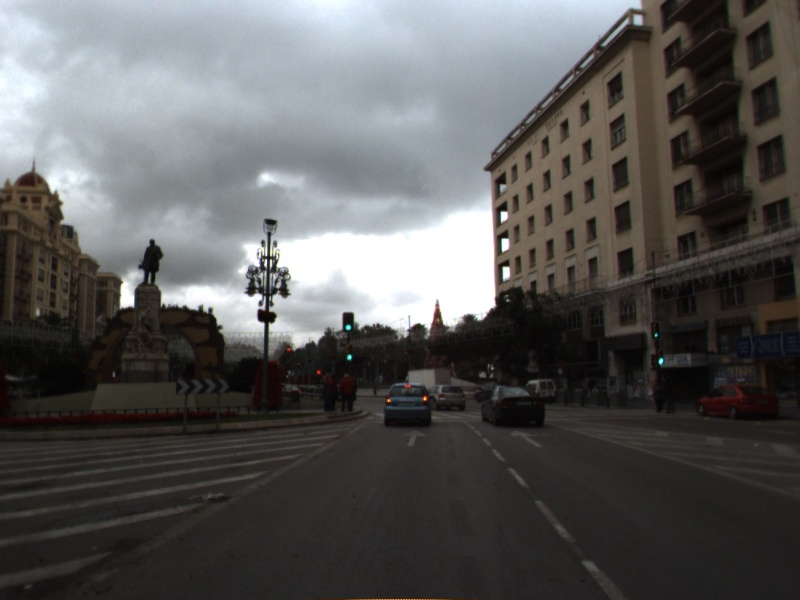STRAIGHT: (508, 428, 545, 449), (402, 427, 429, 448)
